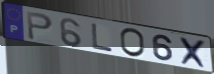6: (59, 17, 84, 49), (151, 33, 175, 63)
L: (90, 22, 114, 54)
O: (119, 27, 147, 59)
P: (25, 10, 55, 42)
X: (178, 36, 210, 71)
